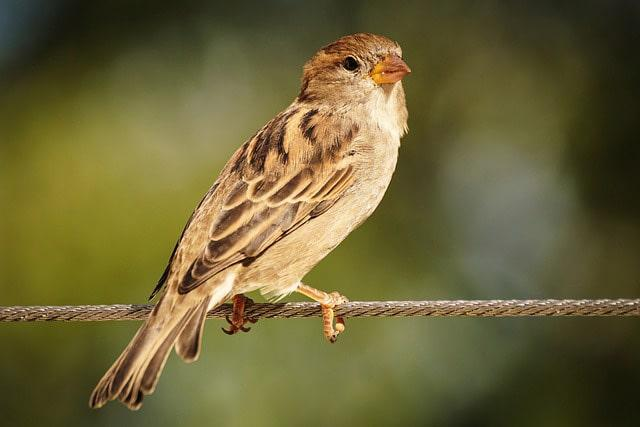bird: (91, 33, 410, 409)
